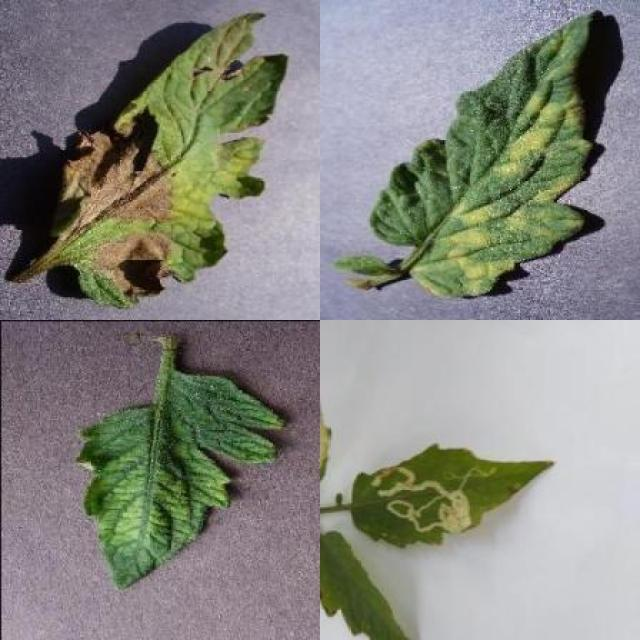Late Blight: (52, 9, 292, 310)
Leaf Miner: (352, 444, 554, 546)
Leaf Mold: (374, 12, 602, 292)
Mosaic Virus: (74, 367, 289, 593)
